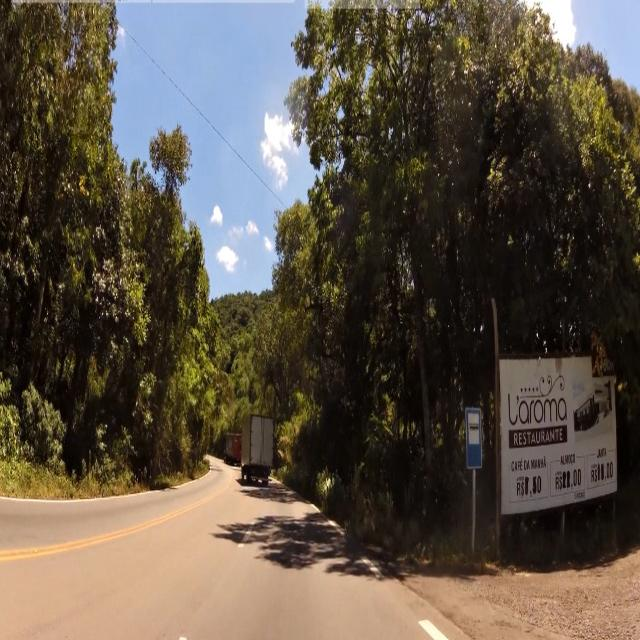S-14: (465, 405, 483, 471)
